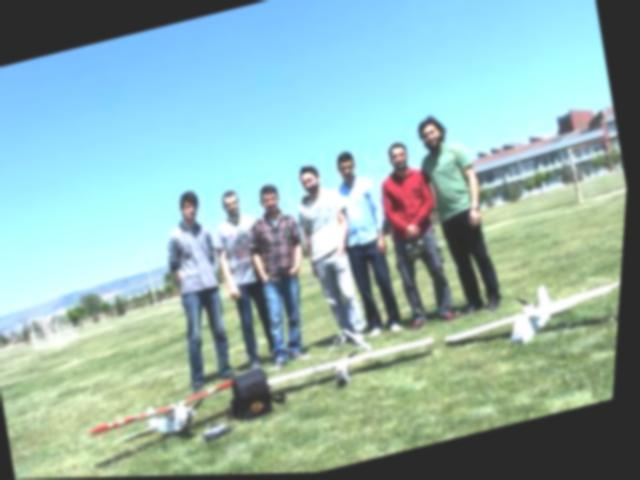uav: (443, 270, 625, 363), (265, 311, 445, 403), (90, 378, 244, 453)
